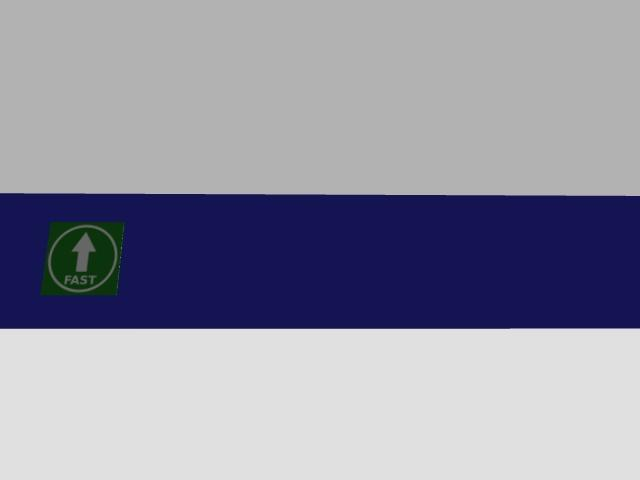fast: (42, 222, 123, 294)
